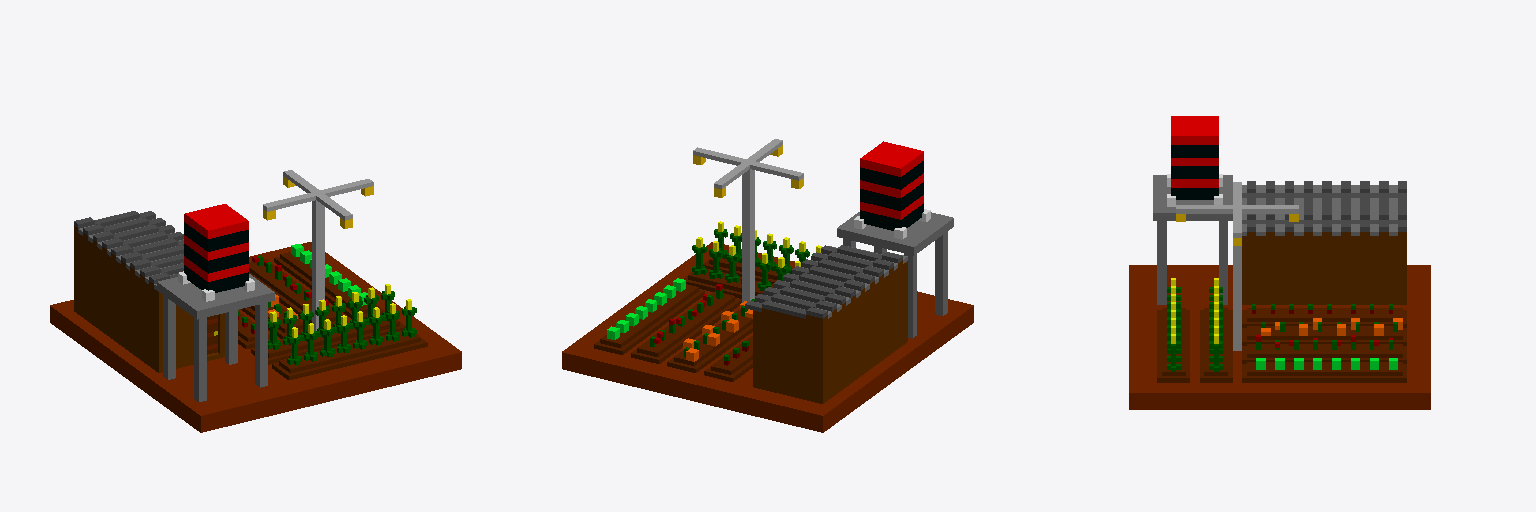
3 views of the same model, side by side, from view 1: azimuth 30°, elevation 25°; view 2: azimuth 150°, elevation 25°; view 3: azimuth 270°, elevation 25° (orthographic).
Parts seen in each view (by area): view 1: object 1; view 2: object 1; view 3: object 1.
Part boxes in pixels (x1,y1,x2,y2): object 1: (50, 170, 461, 432); object 1: (562, 139, 973, 432); object 1: (1129, 116, 1430, 409).
Bounding box in the file's own units: 6.4 × 4.2 × 6.4.
1 materials, 1 textured.